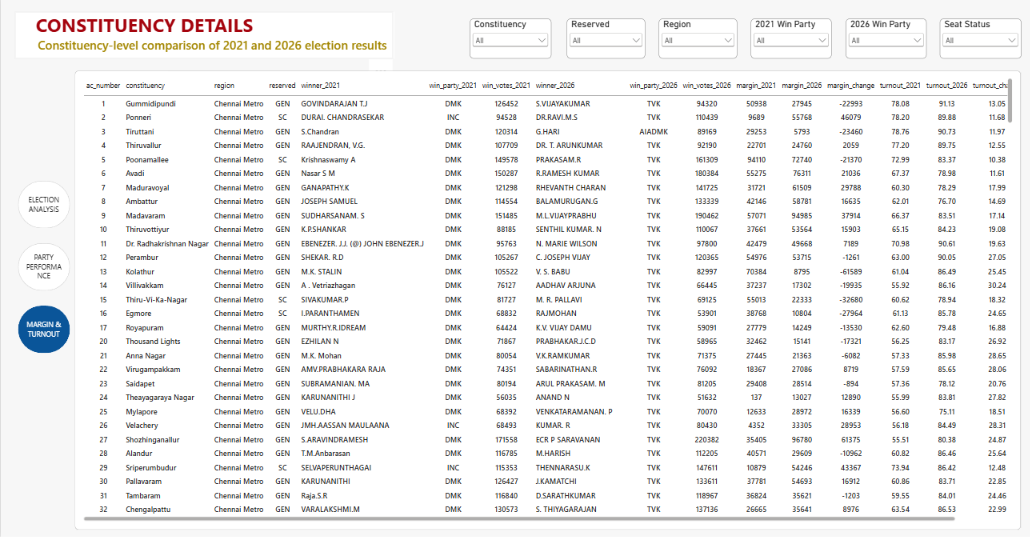

The dashboard page shown, as its layout file describes it:
{"tool":"powerbi","page":{"name":"MARGIN & TURNOUT","canvas":[2060,1080],"ordinal":2},"visuals":[{"type":"textbox","box":[27.8,27.8,758.9,94.4],"z":0},{"type":"slicer","title":"Se","fields":{"Values":["tn_21_26.seat_status"]},"box":[1877.9,42.4,162.9,80],"z":0,"group":"g1"},{"type":"group","id":"g1","title":"slicers","box":[938,42,1102,80],"z":1000},{"type":"slicer","fields":{"Values":["tn_21_26.region"]},"box":[1316.5,42.4,157.1,80],"z":1000,"group":"g1"},{"type":"slicer","fields":{"Values":["tn_21_26.winner_party_2026"]},"box":[1689.4,42.4,161.4,80],"z":2000,"group":"g1"},{"type":"tableEx","fields":{"Values":["tn_21_26.ac_number","tn_21_26.constituency","tn_21_26.region","tn_21_26.reserved","tn_21_26.winner_2021","tn_21_26.winner_party_2021","tn_21_26.winner_votes_2021","tn_21_26.winner_2026","tn_21_26.winner_party_2026","tn_21_26.winner_votes_2026","tn_21_26.margin_2021","tn_21_26.margin_2026"]},"box":[148,146,1892,918],"z":2000},{"type":"pageNavigator","box":[24,356,124,366],"z":2001},{"type":"slicer","fields":{"Values":["tn_21_26.reserved"]},"box":[1132.2,42.4,157.1,80],"z":3000,"group":"g1"},{"type":"slicer","fields":{"Values":["tn_21_26.winner_party_2021"]},"box":[1500.8,42.4,161.4,80],"z":4000,"group":"g1"},{"type":"slicer","title":"Se","fields":{"Values":["tn_21_26.constituency"]},"box":[938,42,162.9,80],"z":4500,"group":"g1"}]}

Visuals, with their boxes in screenshot pixels (x1, y1, x2, y2), scaled from the page's 2060x1080 canvas onto the 1030x537 screenshot:
textbox: (left=14, top=14, right=393, bottom=61)
"Se" slicer: (left=939, top=21, right=1020, bottom=61)
"slicers" group: (left=469, top=21, right=1020, bottom=61)
slicer - tn_21_26.region: (left=658, top=21, right=737, bottom=61)
slicer - tn_21_26.winner_party_2026: (left=845, top=21, right=925, bottom=61)
tableEx - tn_21_26.ac_number x tn_21_26.constituency: (left=74, top=73, right=1020, bottom=529)
pageNavigator: (left=12, top=177, right=74, bottom=359)
slicer - tn_21_26.reserved: (left=566, top=21, right=645, bottom=61)
slicer - tn_21_26.winner_party_2021: (left=750, top=21, right=831, bottom=61)
"Se" slicer: (left=469, top=21, right=550, bottom=61)
